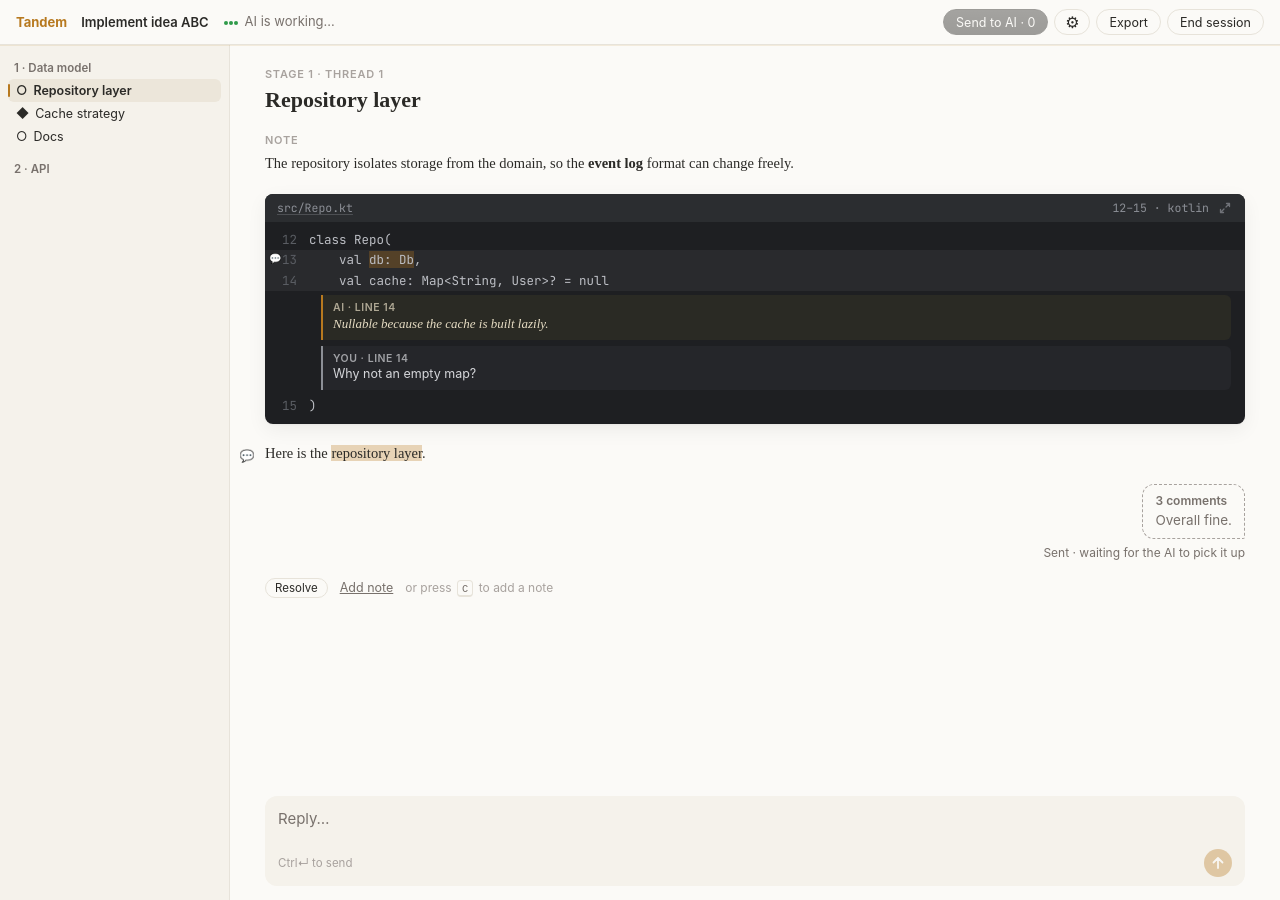
it: SessionPage › shows the daemon hint when the export fetch itself fails (F10)
Click the button "Export" at (1129, 22), box [1096,9,1161,35]
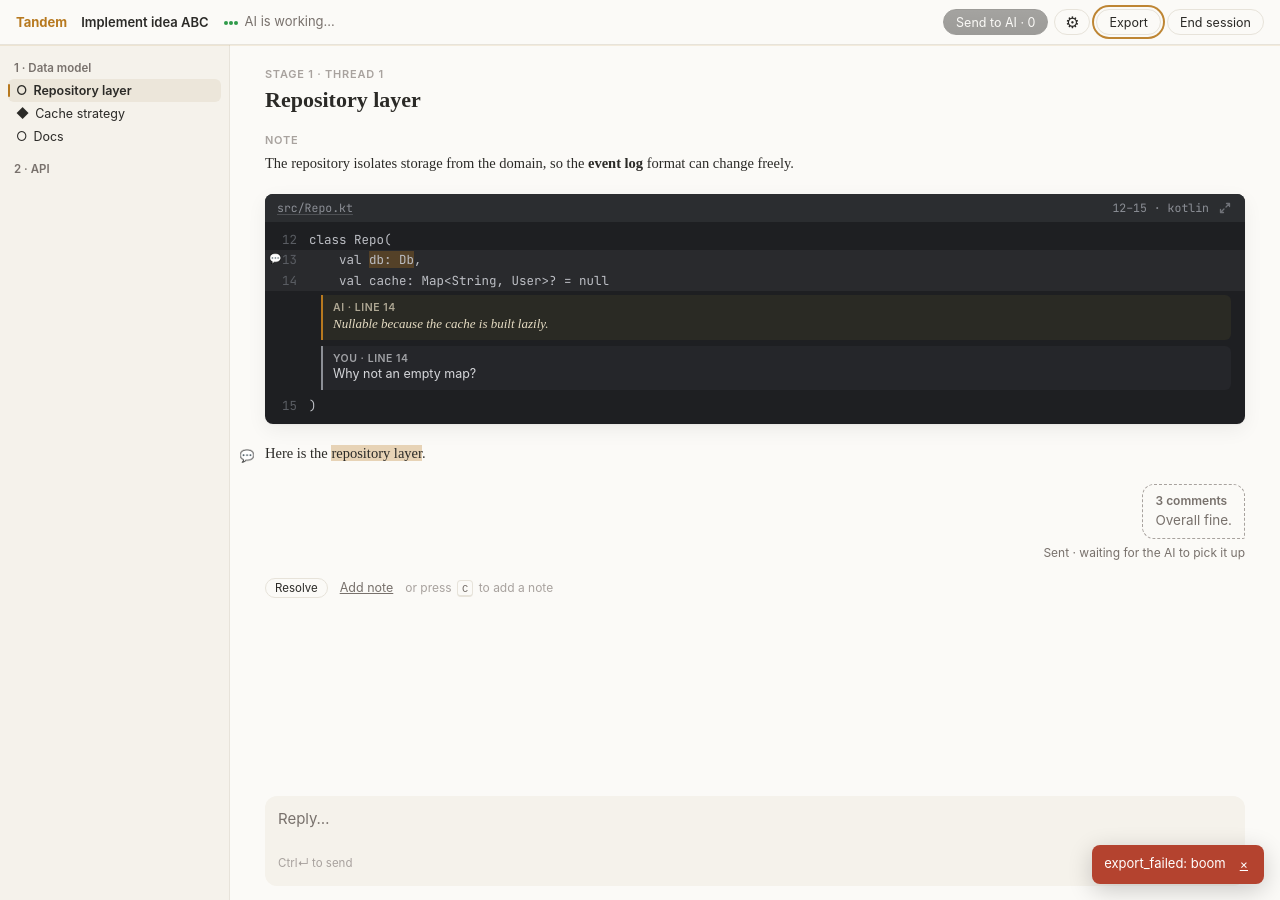
Now the message "export_failed: boom ×" is shown, box [1092,845,1264,884]
